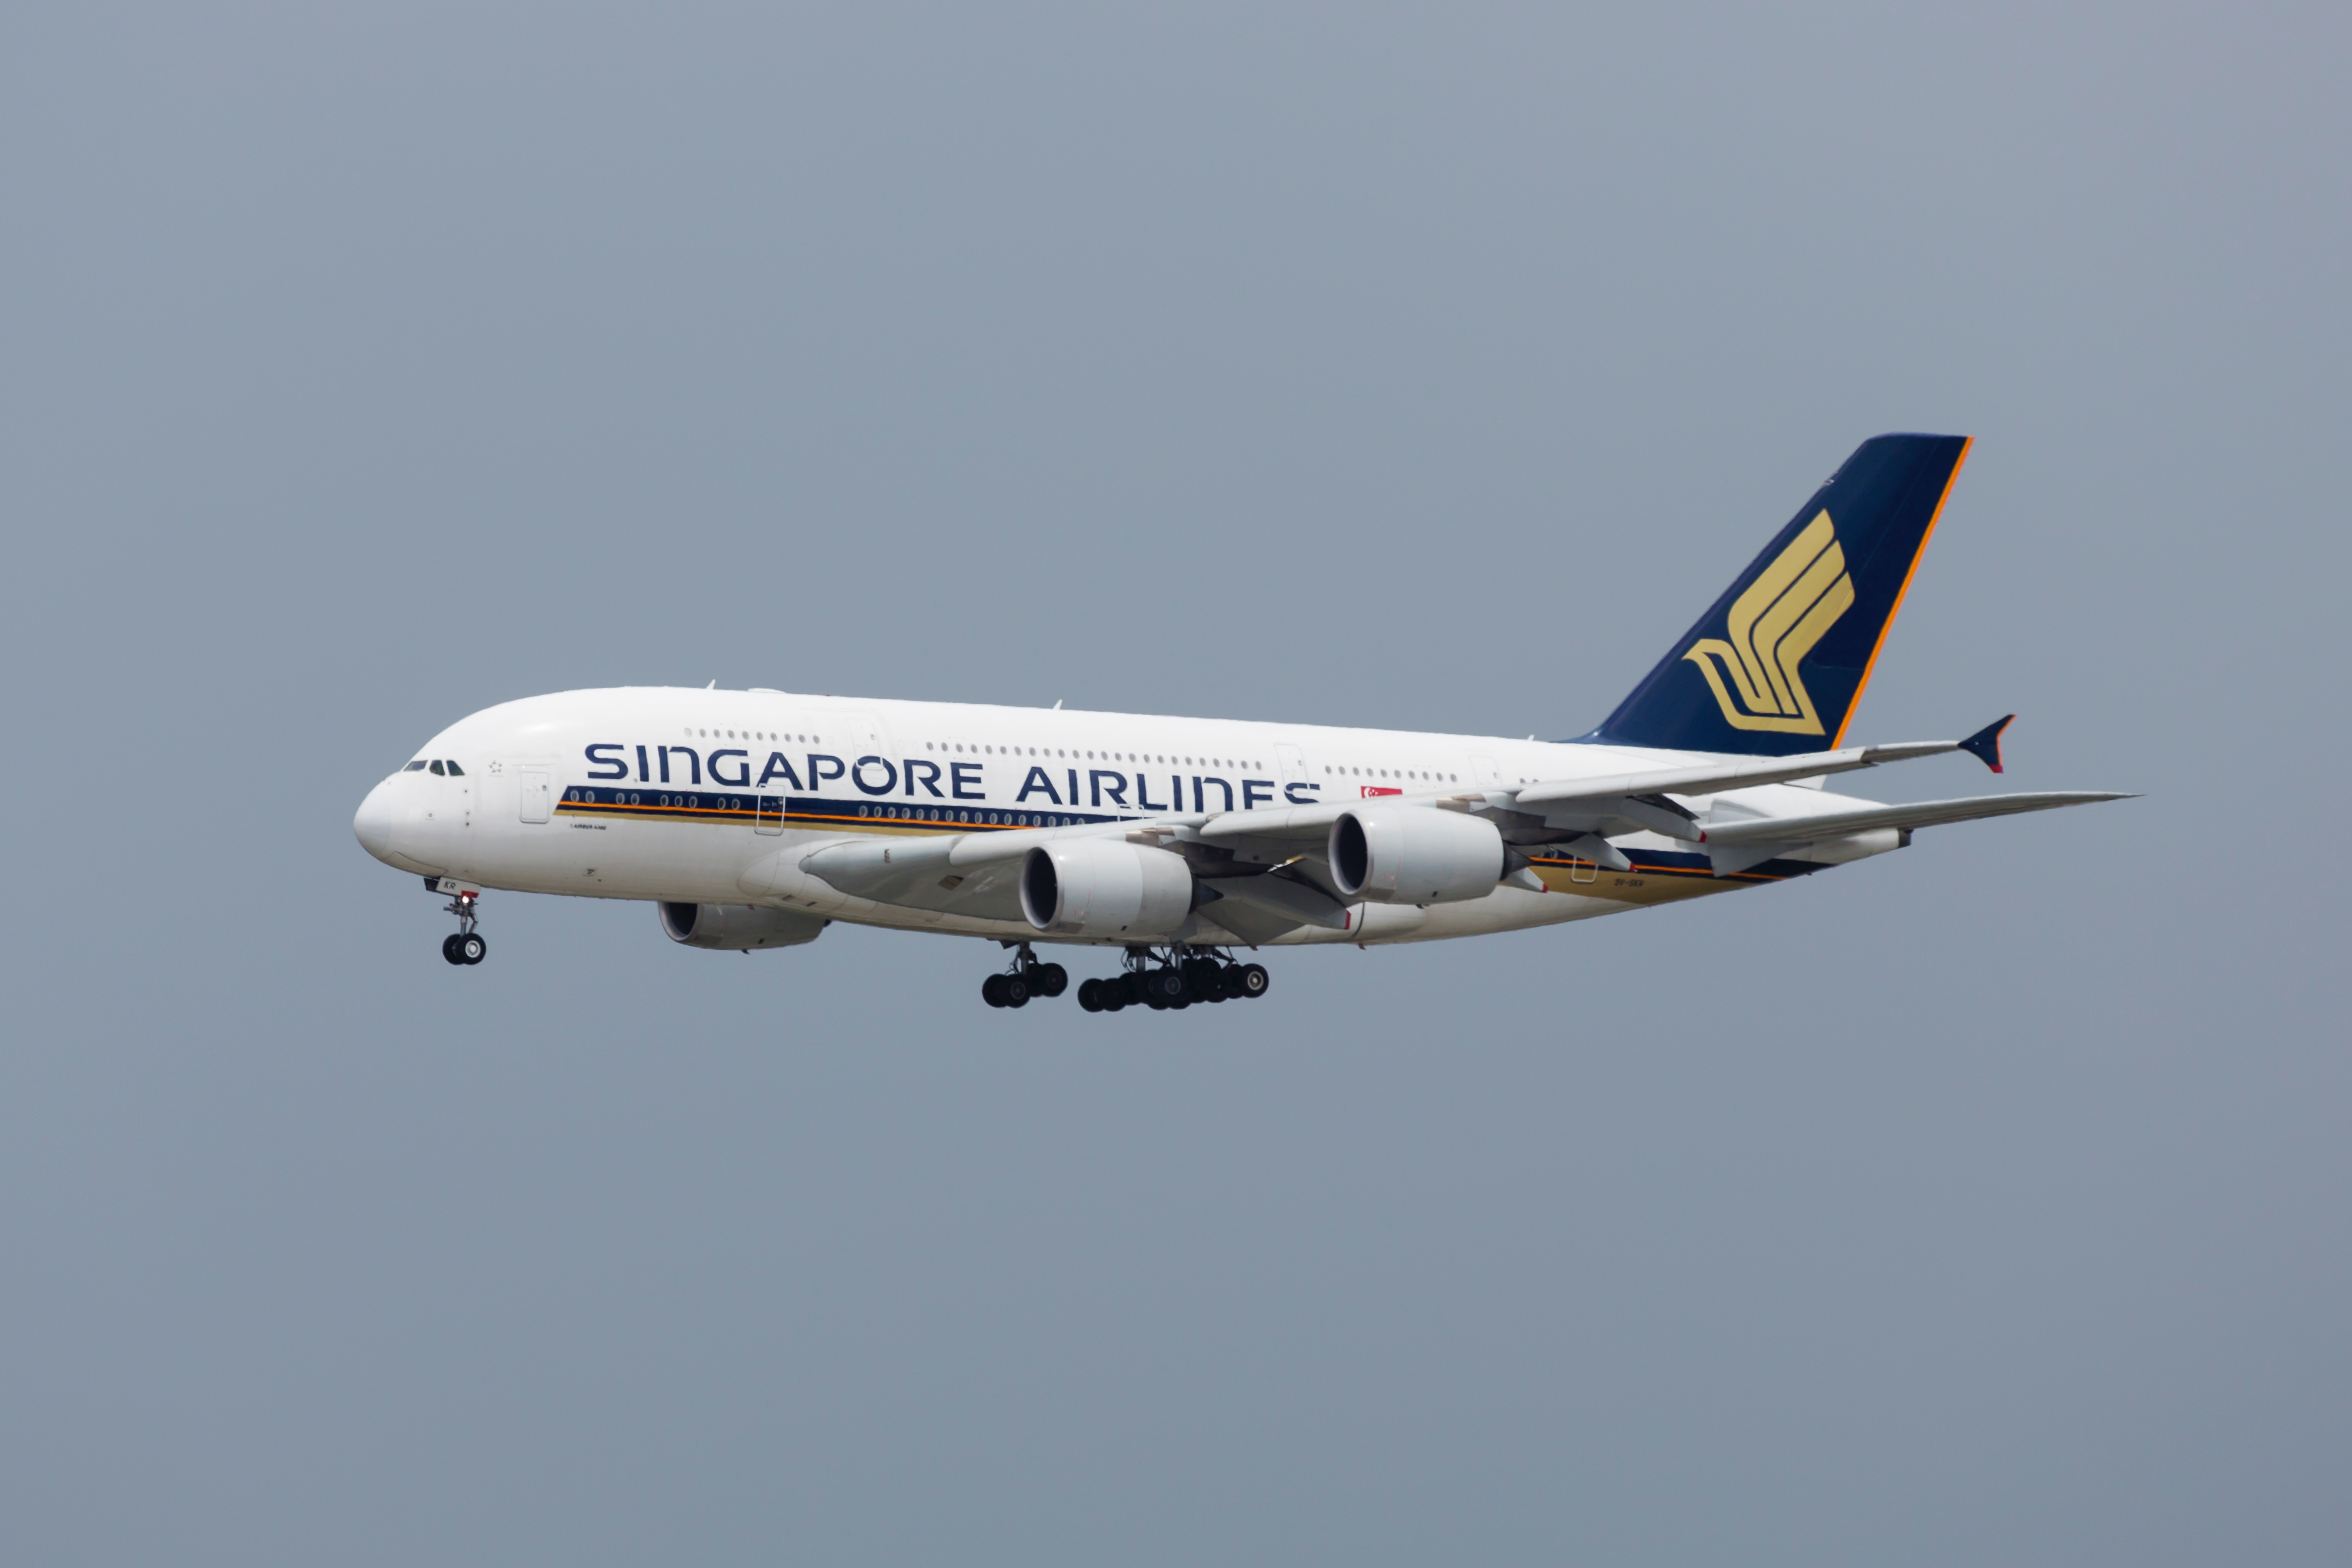airplane: (257, 373, 2163, 1080)
